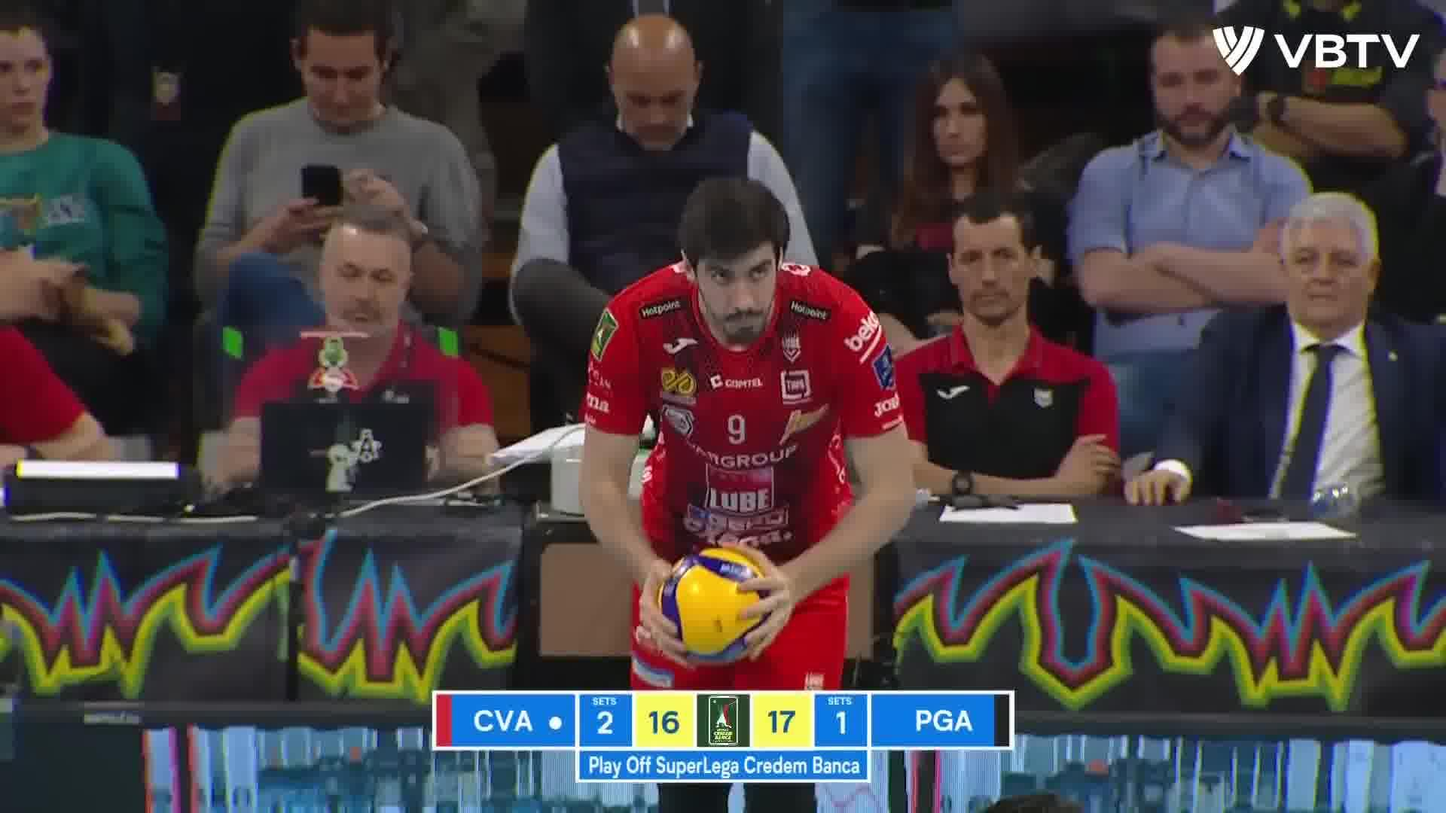balls: (653, 541, 776, 666)
